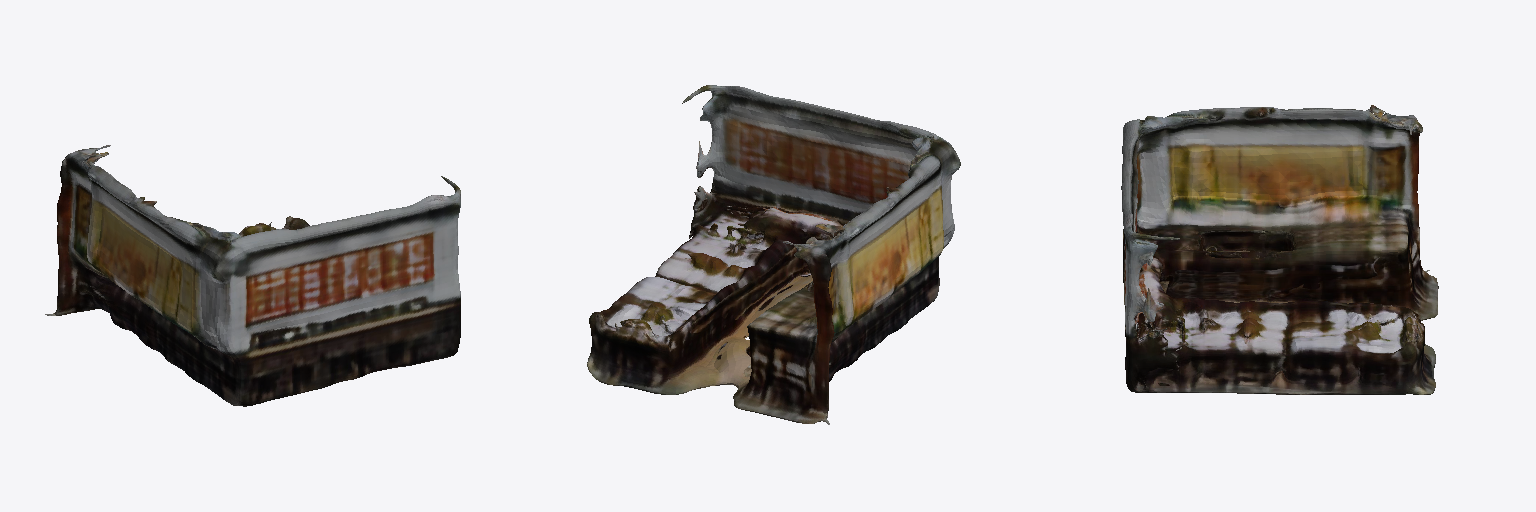
3 renders of one model, left to right at view 1: azimuth 30°, elevation 25°; view 2: azimuth 150°, elevation 25°; view 3: azimuth 270°, elevation 25°, orthographic.
Parts seen in each view (by area): view 1: mesh; view 2: mesh; view 3: mesh.
Part boxes in pixels (x1,y1,x2,y2): mesh: (45, 145, 460, 406); mesh: (587, 85, 960, 424); mesh: (1121, 105, 1438, 394).
Size of the model in its own units: 0.9905 by 0.6451 by 0.9935.
Materials: 1 (1 with a texture image).